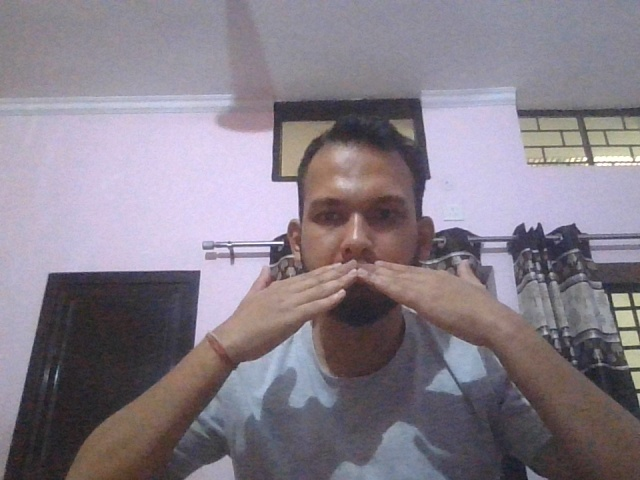thanks: (207, 260, 530, 356)
